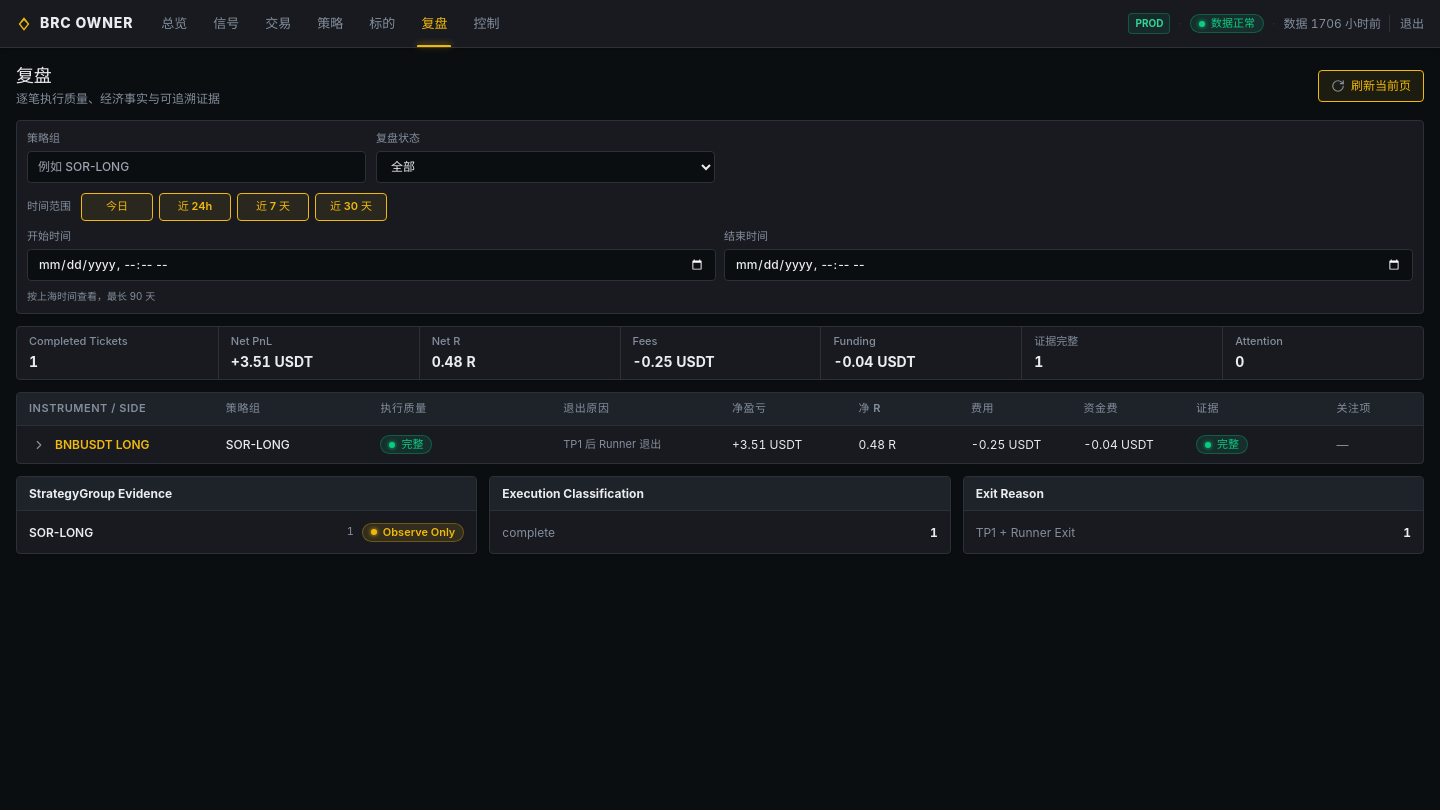
Test: renders deterministic review sentences and evidence links
What coordinates should you click on to do the following:
click the button named "展开 BNBUSDT LONG 复盘"
I would click on:
 (39, 445)
Its box is [29, 435, 49, 455].
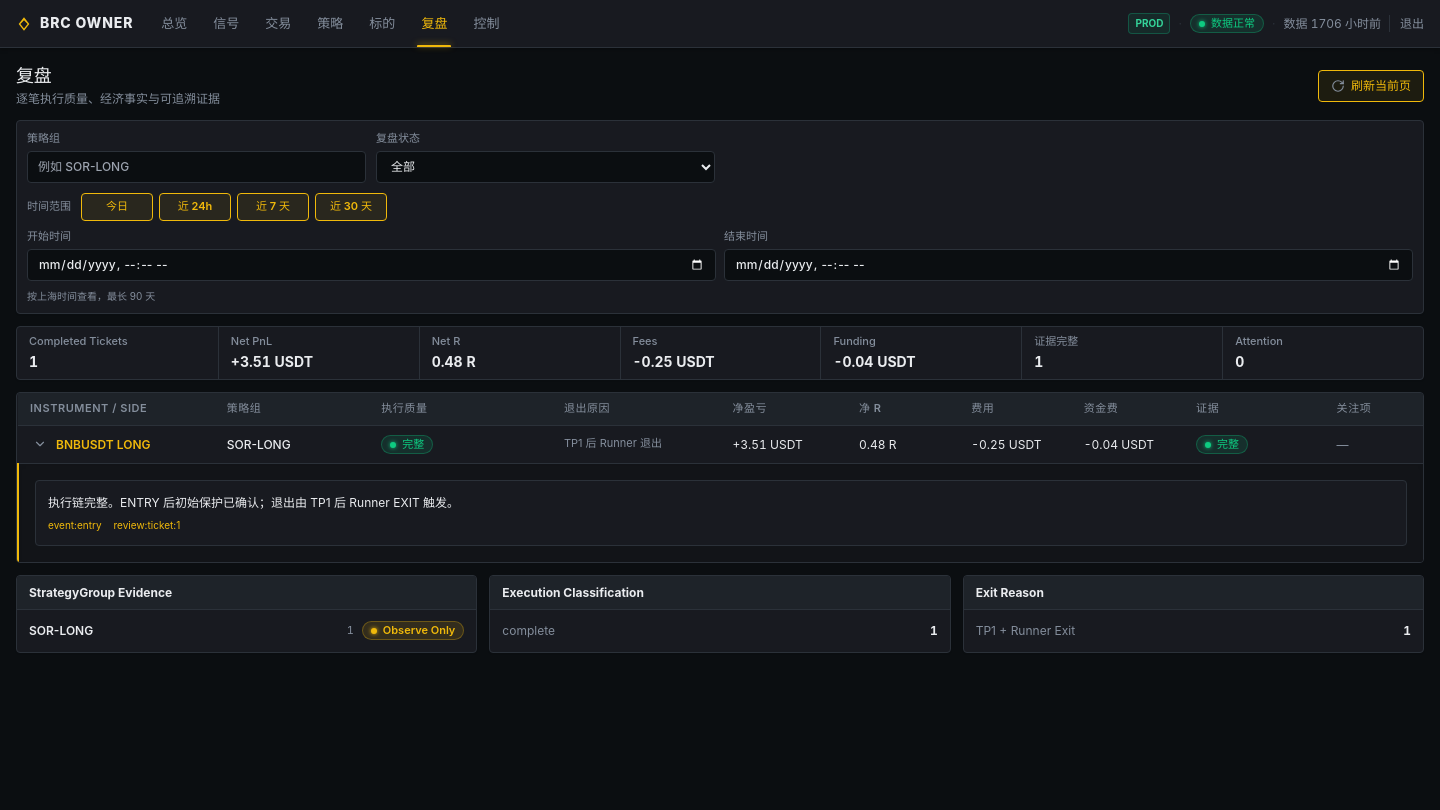
Check: the text "执行链完整。ENTRY 后初始保护已确认；退出由 TP1 后 Runner EXIT 触发。" is shown, box [48, 495, 459, 510]
Check: the link "review:ticket:1" is shown, box [114, 518, 180, 533]
